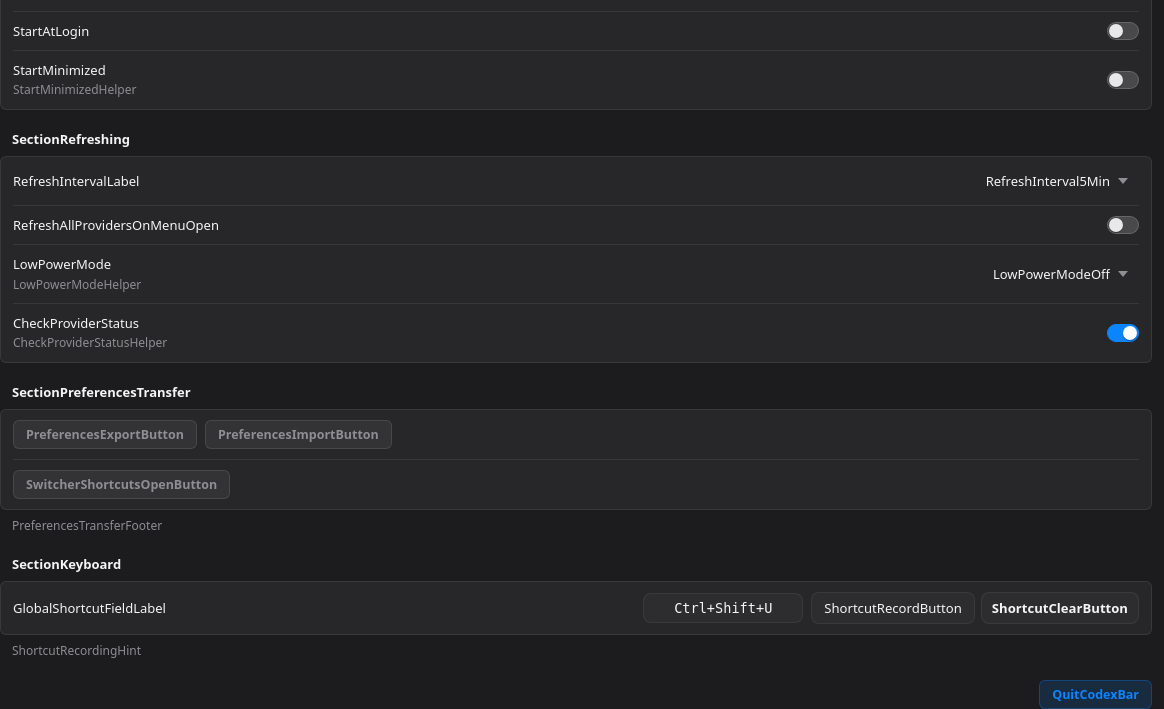
Test: GeneralTab Mac grouped layout › shows the unregister error and keeps the shortcut when clearing fails
This screenshot has width=1164, height=709.
(page scrolled)
Click the button "ShortcutClearButton".
click(1060, 608)  # box top-left (981, 592), bottom-right (1139, 624)
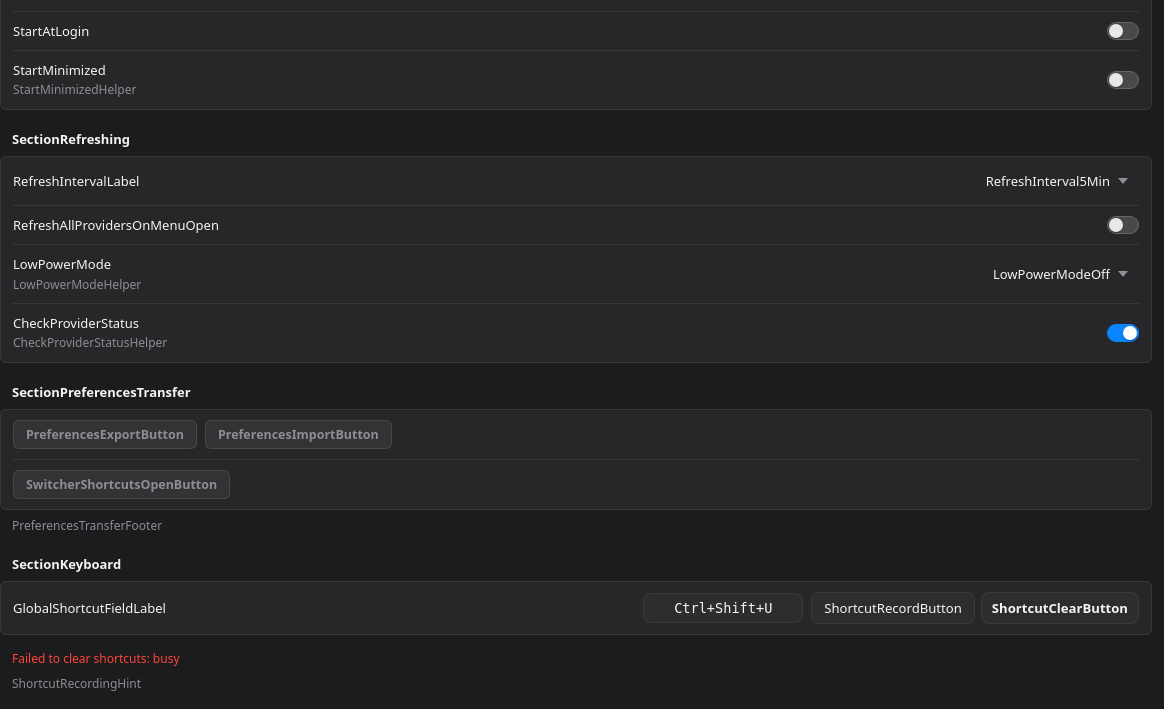
Now the message "Failed to clear shortcuts: busy" is shown, box top-left (12, 650), bottom-right (180, 667)
